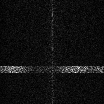wifi: (1, 65, 104, 73)
